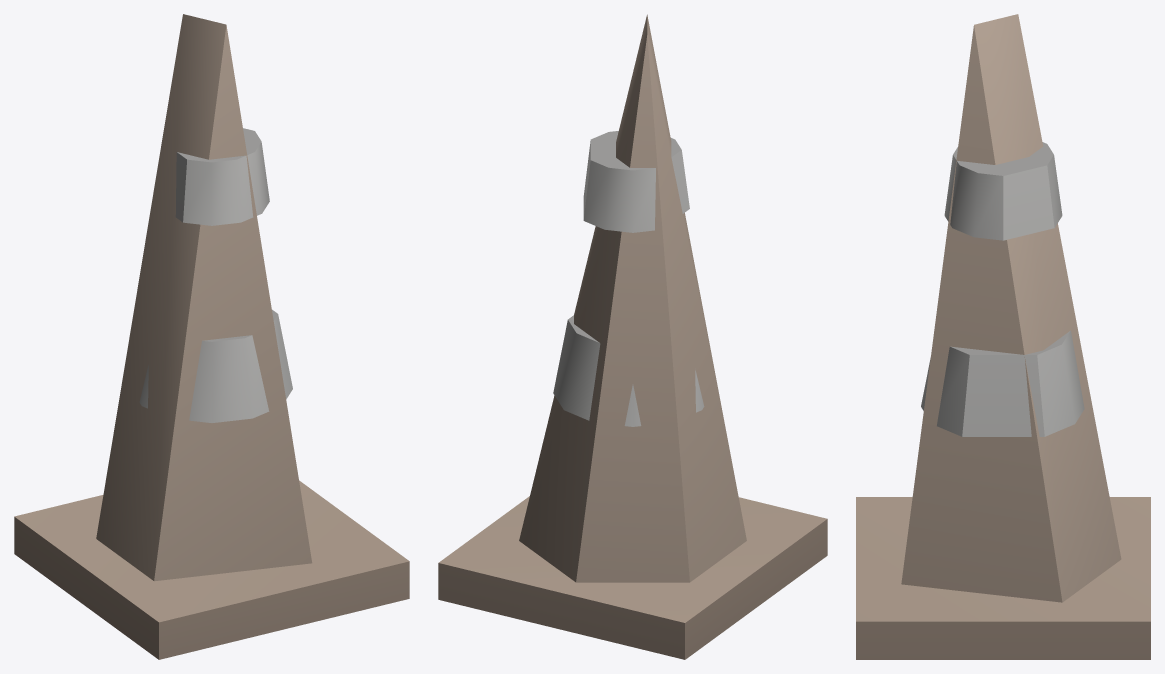
3 renders of one model, left to right at view 1: azimuth 30°, elevation 25°; view 2: azimuth 150°, elevation 25°; view 3: azimuth 270°, elevation 25°, orthographic. The views are drawn at different scales.
Bounding box in the file's own units: 0.35 × 0.75 × 0.35.
